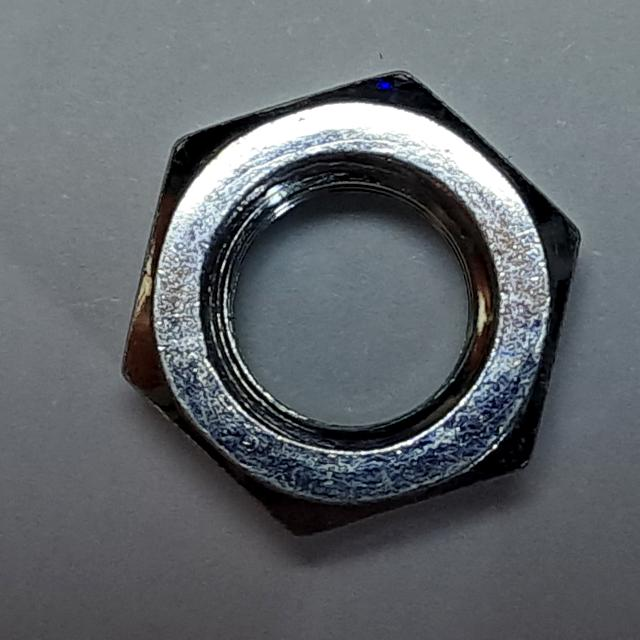Excellent: (105, 49, 591, 556)
